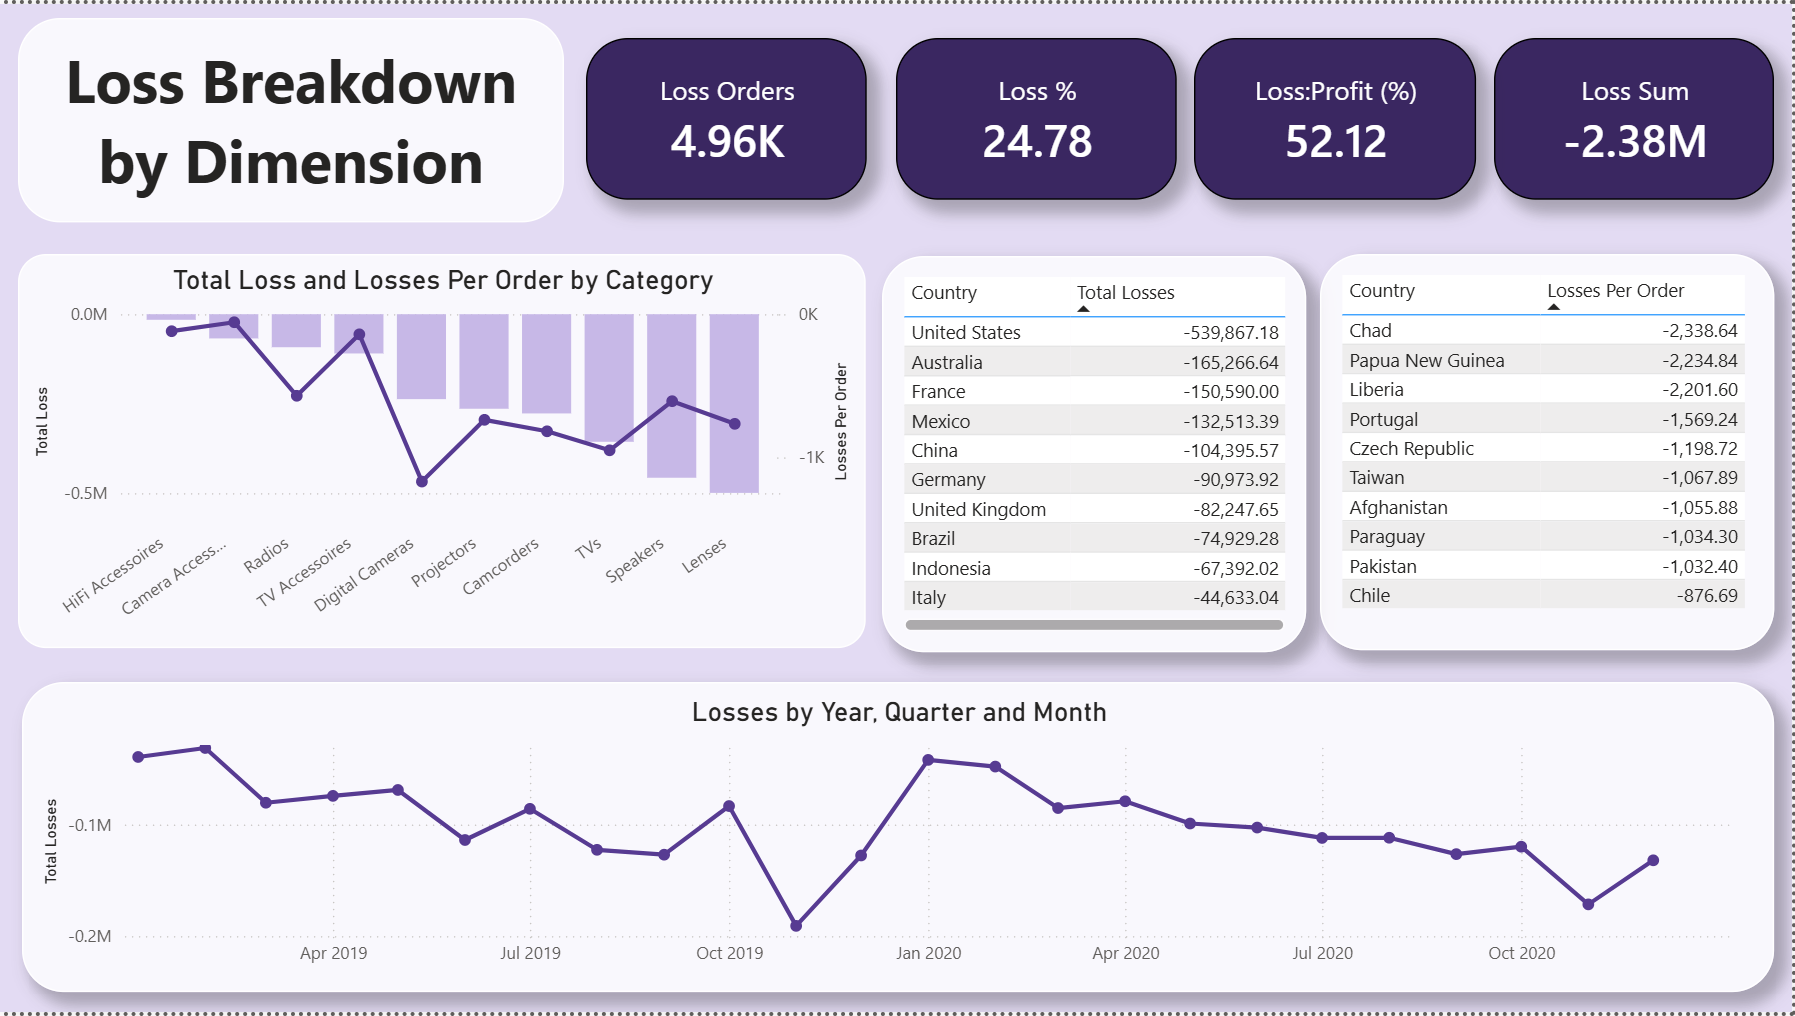

This screenshot's page, from the dashboard's own definition file:
{"tool":"powerbi","page":{"name":"Loss Breakdown by Dimension","canvas":[1280,720],"ordinal":1},"visuals":[{"type":"cardVisual","fields":{"Data":["CountNonNull(Losses Data.Primary ID)"]},"box":[418.5,24.6,200.7,115.5],"z":0},{"type":"cardVisual","fields":{"Data":["Losses Data.Negative Order Ratio"]},"box":[640,24.6,200.7,115.5],"z":1000},{"type":"cardVisual","fields":{"Data":["Sum(Losses Data.Profit)"]},"box":[1067.1,24.3,200,115.7],"z":2000},{"type":"cardVisual","fields":{"Data":["Losses Data.Loss-to-profit ratio"]},"box":[852.9,24.3,201.4,115.7],"z":3000},{"type":"lineClusteredColumnComboChart","title":"Total Loss and Losses Per Order by Category","fields":{"Category":["Losses Data.Sub-Category"],"Y":["Sum(Losses Data.Profit)"],"Y2":["Losses Data.Losses Per Order"]},"box":[12.9,178.6,605.7,281.4],"z":4000},{"type":"lineChart","title":"Losses by Year, Quarter and Month","fields":{"Category":["Losses Data.Order Date.Variation.Date Hierarchy.Year","Losses Data.Order Date.Variation.Date Hierarchy.Quarter","Losses Data.Order Date.Variation.Date Hierarchy.Month","Losses Data.Order Date.Variation.Date Hierarchy.Day"],"Y":["Sum(Losses Data.Profit)"]},"box":[15.1,484.7,1251.6,221.5],"z":5000},{"type":"textbox","box":[13.3,9.5,390.1,145.8],"z":6000},{"type":"tableEx","fields":{"Values":["Losses Data.Country","Sum(Losses Data.Profit)"]},"box":[630,180,302.9,282.9],"z":7000},{"type":"tableEx","fields":{"Values":["Losses Data.Country","Losses Data.Losses Per Order"]},"box":[942.9,178.6,324.3,282.9],"z":8000}]}

Visuals, with their boxes in screenshot pixels (x1, y1, x2, y2), scaled from the page's 1280x720 canvas onto the 1795x1016 screenshot:
cardVisual - CountNonNull(Losses Data.Primary ID): <bbox>587, 35, 868, 198</bbox>
cardVisual - Losses Data.Negative Order Ratio: <bbox>898, 35, 1179, 198</bbox>
cardVisual - Sum(Losses Data.Profit): <bbox>1496, 34, 1777, 198</bbox>
cardVisual - Losses Data.Loss-to-profit ratio: <bbox>1196, 34, 1478, 198</bbox>
"Total Loss and Losses Per Order by Category" lineClusteredColumnComboChart: <bbox>18, 252, 867, 649</bbox>
"Losses by Year, Quarter and Month" lineChart: <bbox>21, 684, 1776, 997</bbox>
textbox: <bbox>19, 13, 566, 219</bbox>
tableEx - Losses Data.Country x Sum(Losses Data.Profit): <bbox>883, 254, 1308, 653</bbox>
tableEx - Losses Data.Country x Losses Data.Losses Per Order: <bbox>1322, 252, 1777, 651</bbox>
